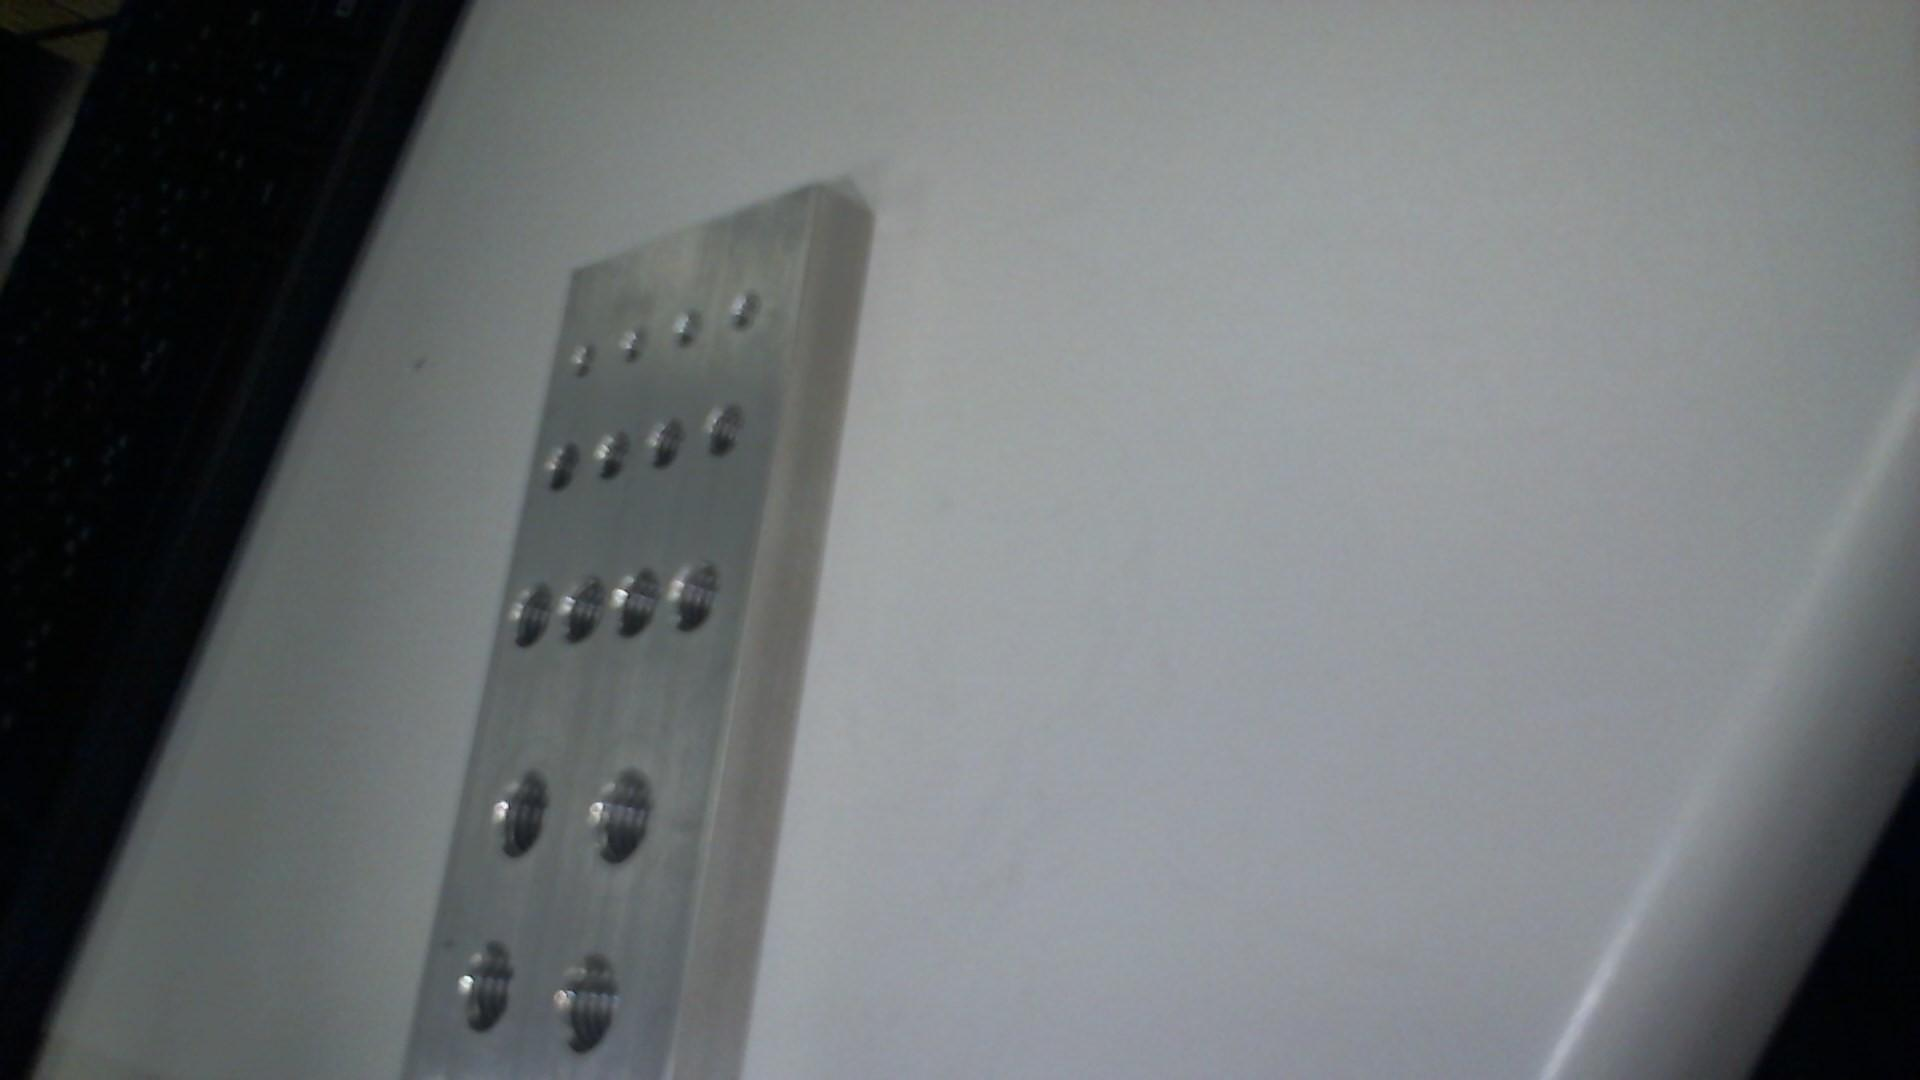hole: (538, 949, 634, 1058), (574, 764, 669, 870), (446, 939, 529, 1039), (477, 761, 560, 857), (666, 563, 732, 638), (613, 563, 669, 636), (553, 575, 608, 646), (502, 579, 556, 647), (702, 401, 754, 456), (585, 427, 637, 483), (636, 418, 686, 468), (723, 280, 764, 339), (541, 439, 582, 489), (667, 301, 704, 349), (617, 320, 655, 367), (564, 338, 599, 377)
